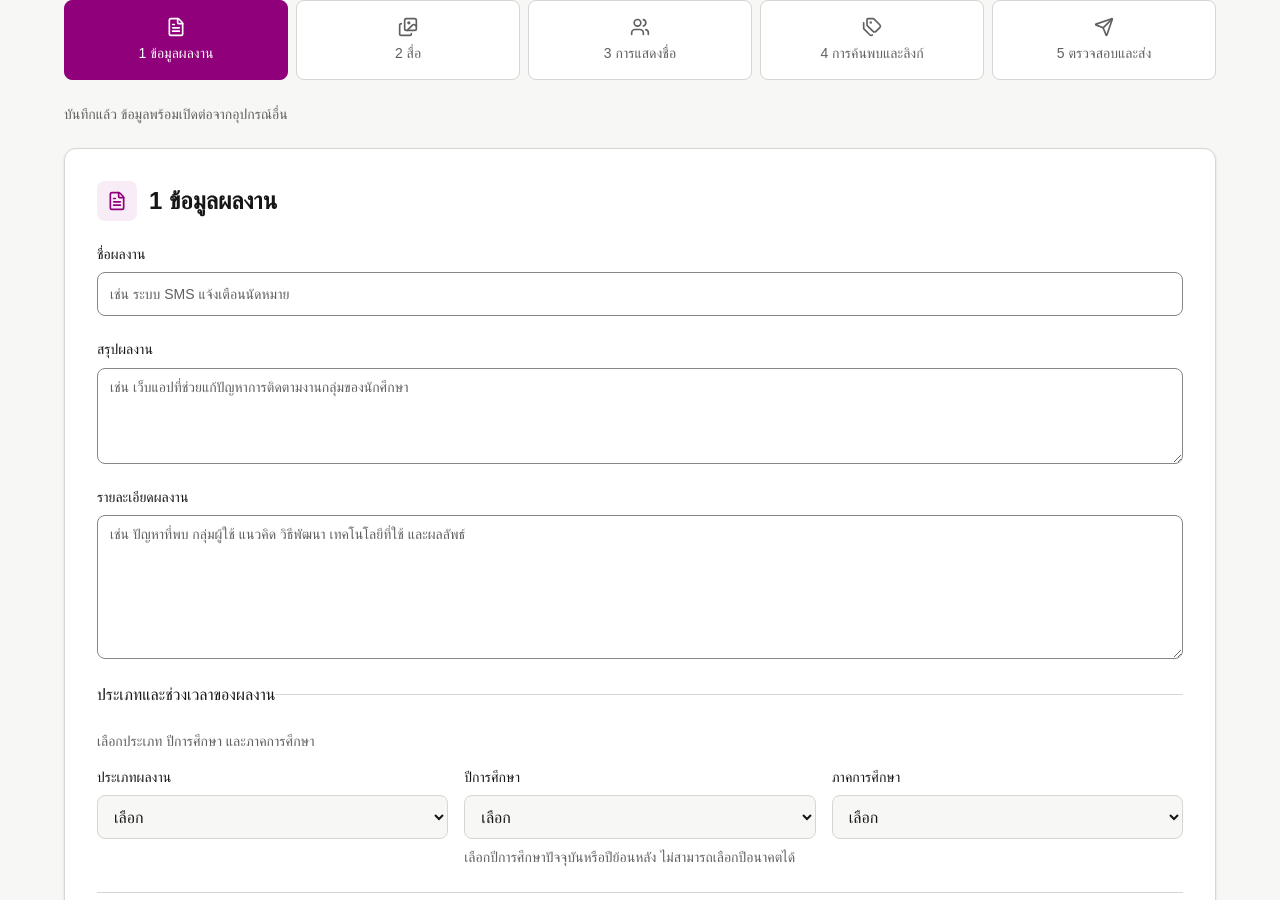
it: five-step Work authoring › holds the details step until the saved Work route replaces the new-Work form
In the field labelled "ชื่อผลงาน": (640, 294) [97,272,1183,316], type "ผลงานใหม่"
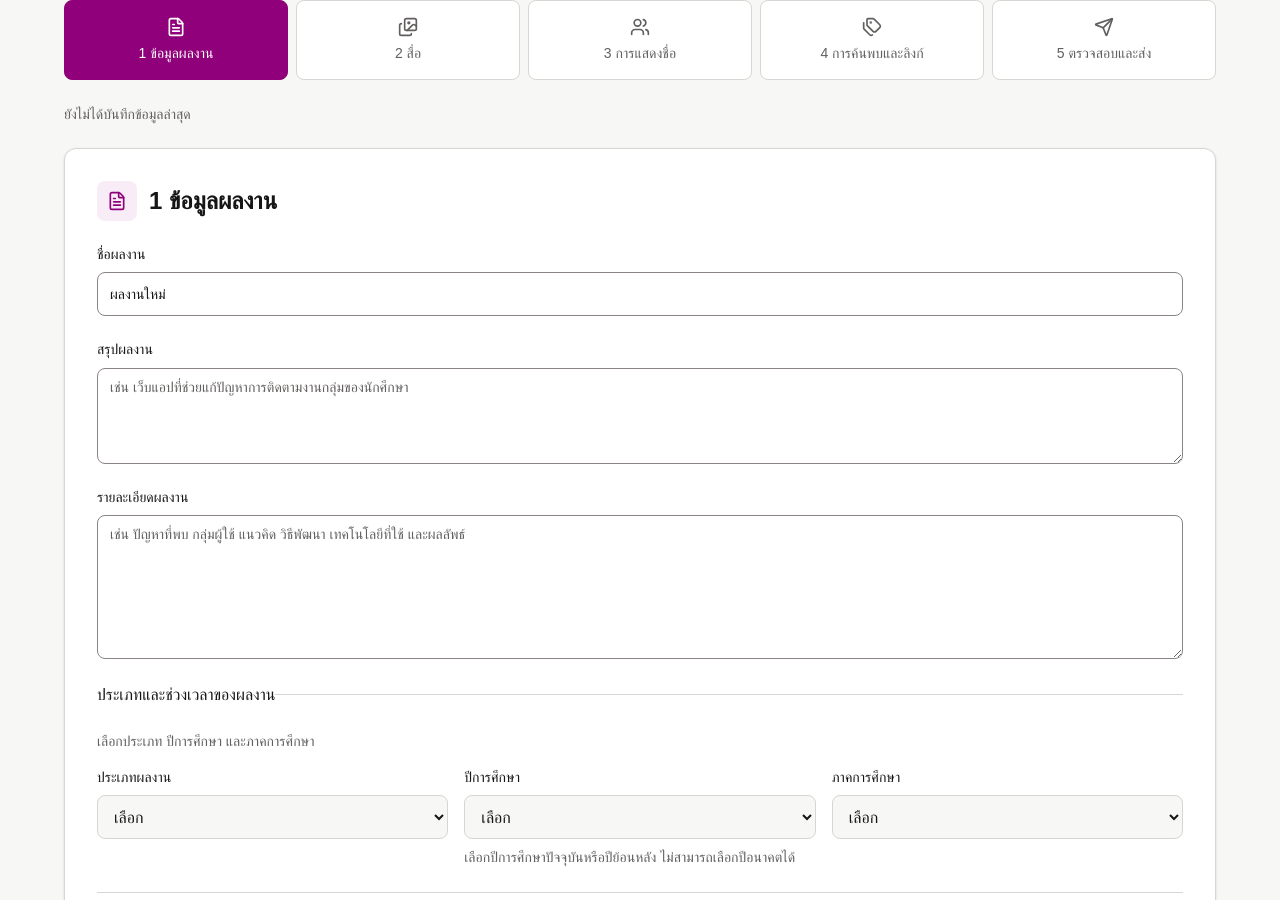
In the text box labelled "สรุปผลงาน": (640, 416) [97,368,1183,464], type "สรุปผลงาน"
Replace the text in the text box labelled "รายละเอียดผลงาน" with "รายละเอียดผลงาน": (640, 587) [97,515,1183,659]
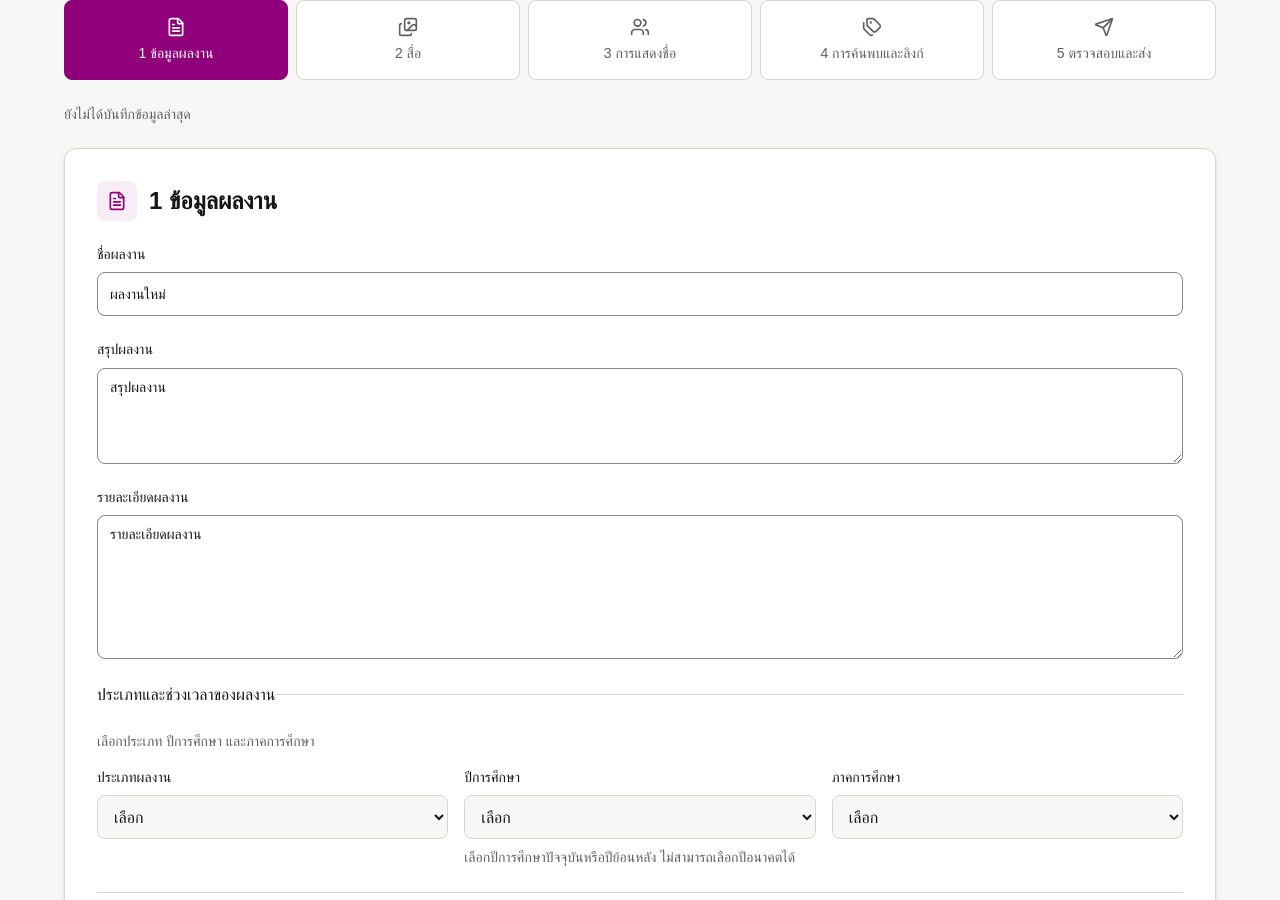
Select "ผลงานรายวิชา" in the dropdown labelled "ประเภทผลงาน": (273, 817) [97,795,448,839]
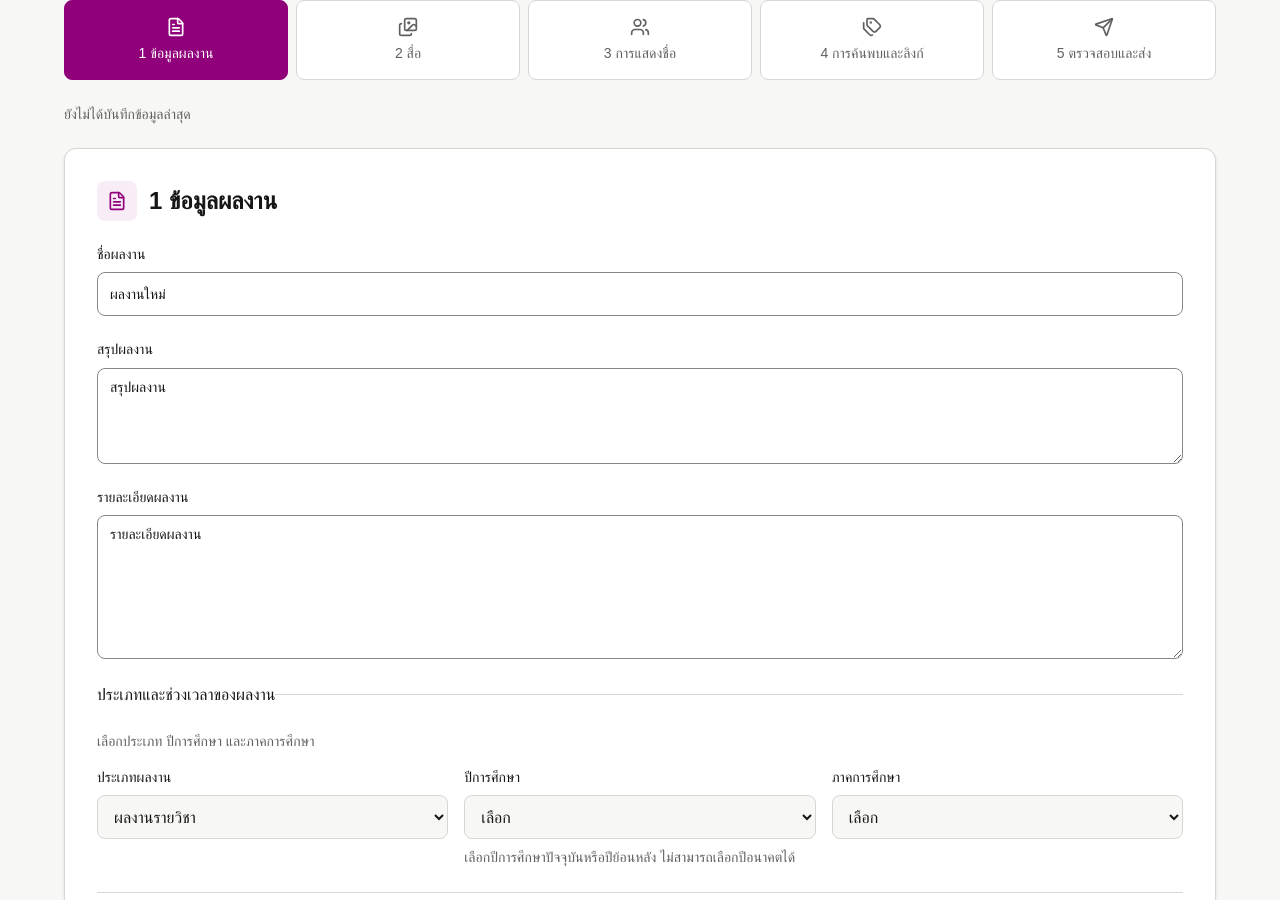
Select "2569" in the dropdown labelled "ปีการศึกษา": (640, 817) [464,795,816,839]
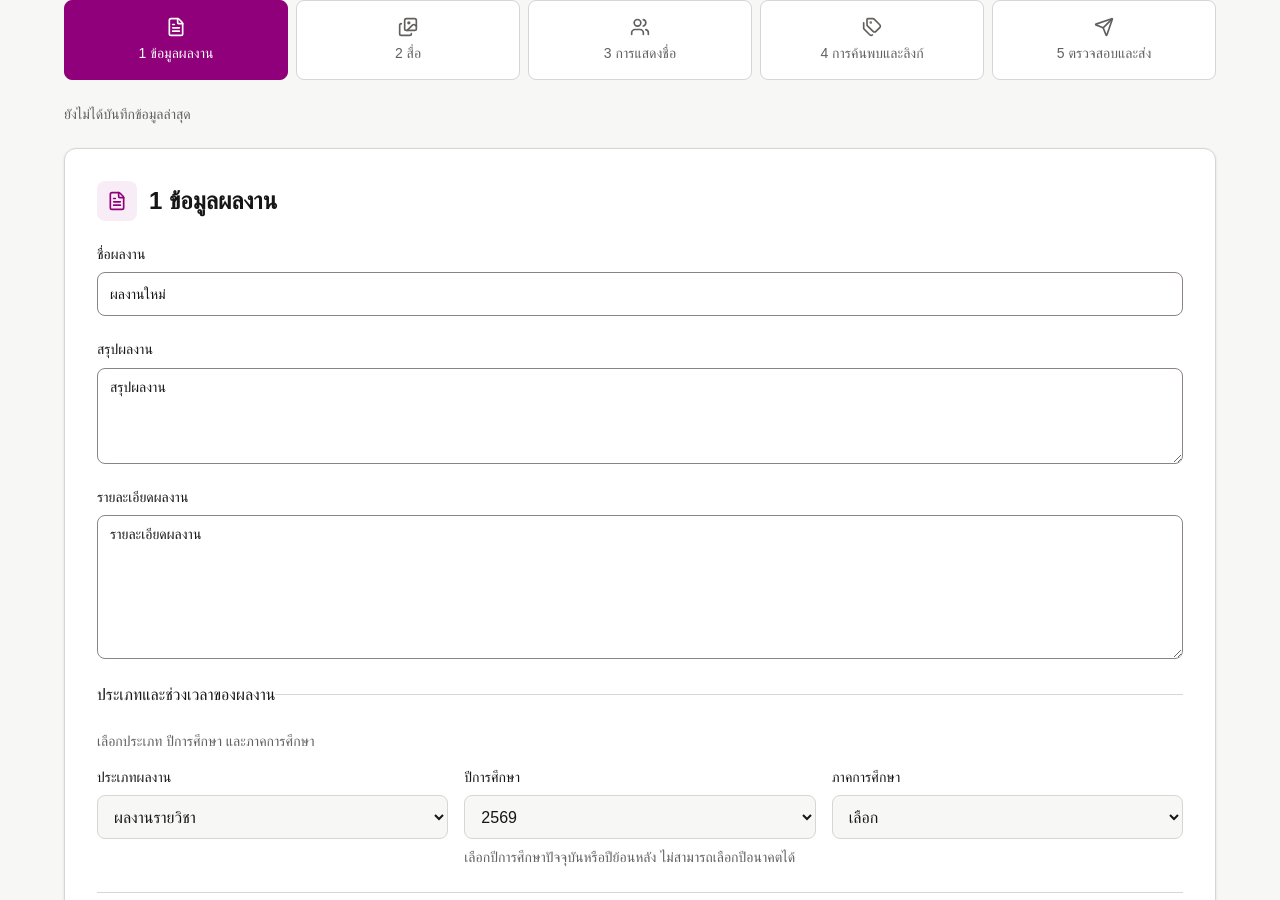
Select "1" in the dropdown labelled "ภาคการศึกษา": (1007, 817) [832,795,1183,839]
(page scrolled)
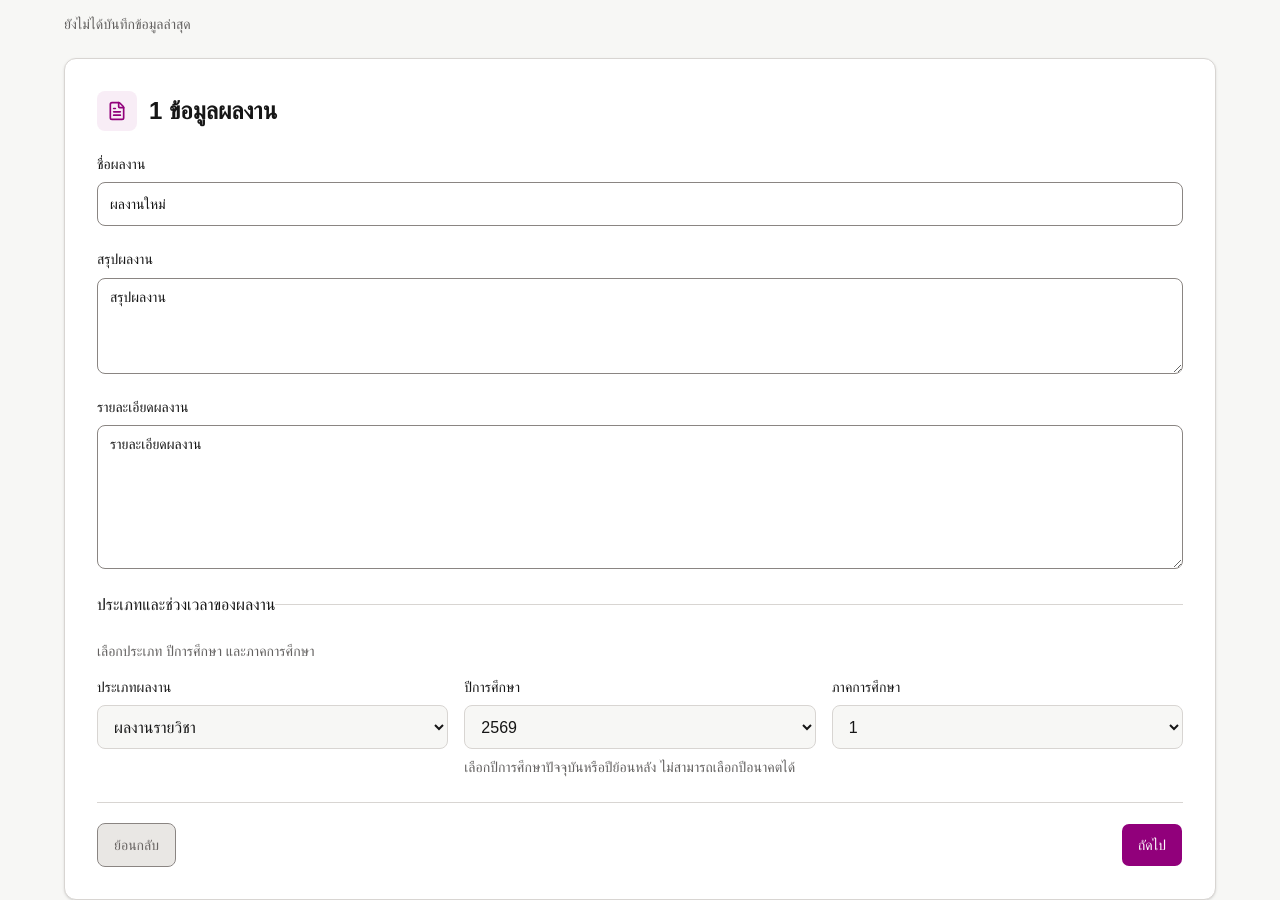
Click the button "ถัดไป": (1152, 845) [1121,823,1183,867]
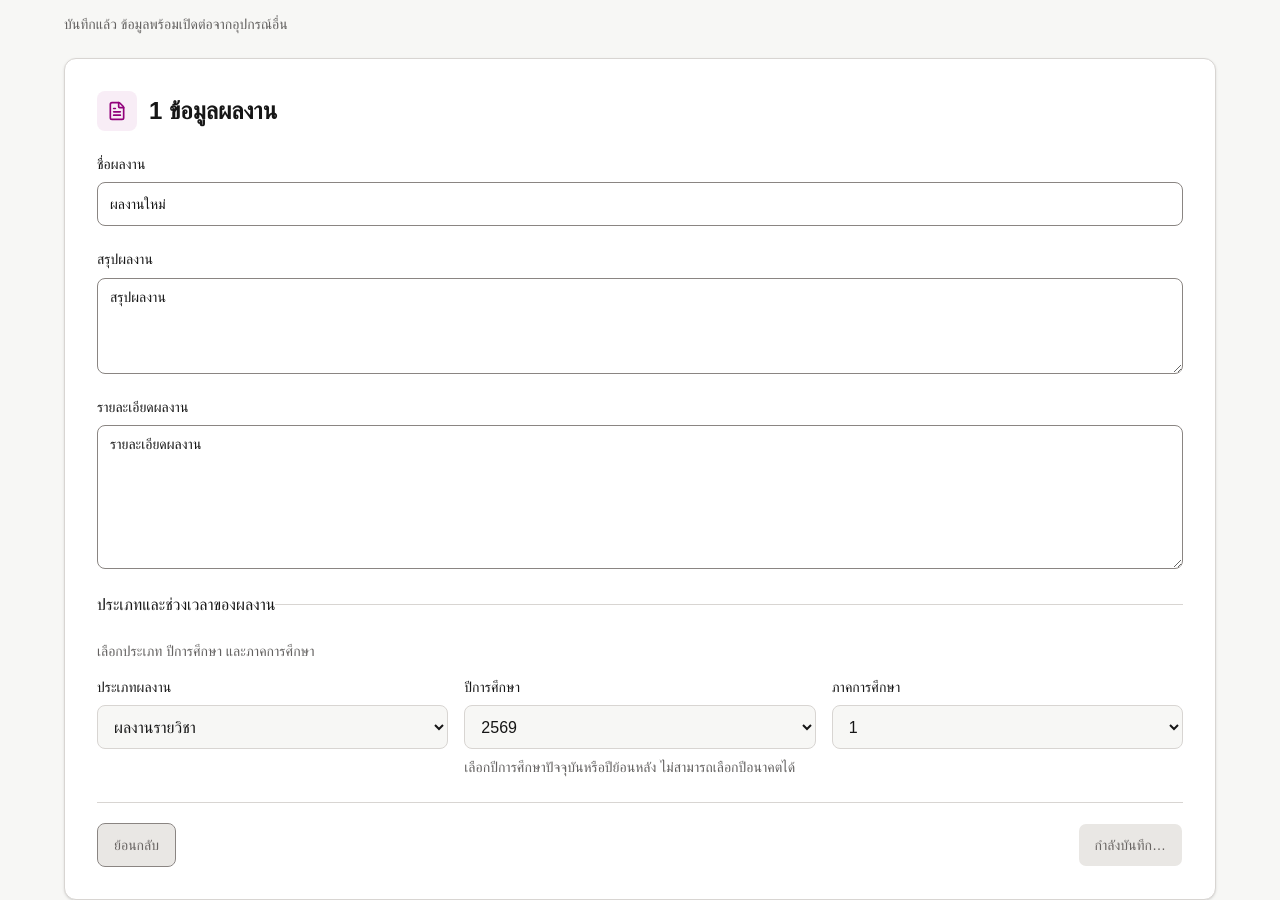
Expected: the heading "2 สื่อ" is not shown
Expected: the button "กำลังบันทึก…" is disabled, [1078,823,1183,867]
